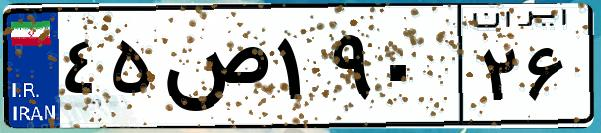0: (385, 28, 445, 110)
1: (270, 28, 330, 110)
2: (475, 38, 525, 113)
4: (57, 26, 110, 100)
5: (110, 28, 158, 98)
6: (525, 38, 570, 115)
9: (330, 28, 385, 110)
ص: (158, 20, 270, 120)
